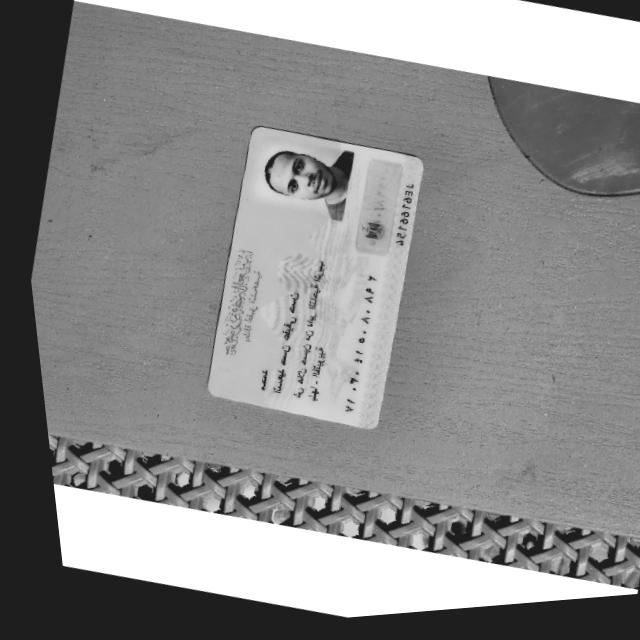id_card: (207, 125, 423, 427)
